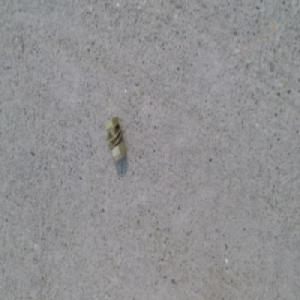BoltNutSet: (104, 119, 125, 163)
